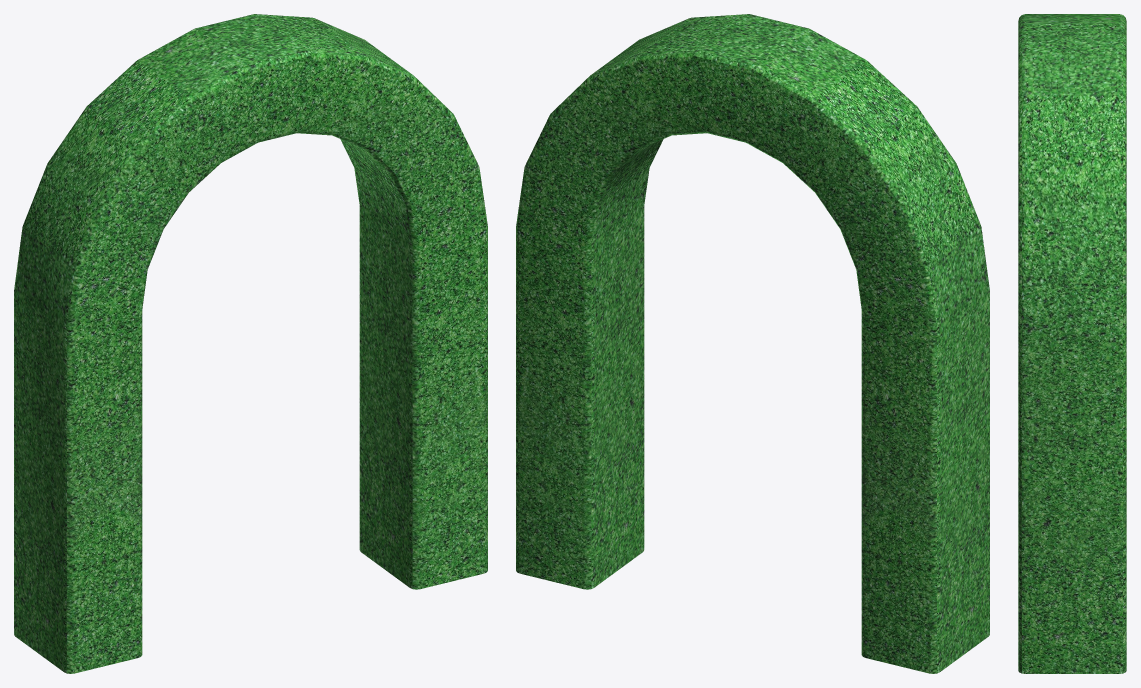
Rendered from door.fbx.
3 views of the same model, side by side, from view 1: azimuth 30°, elevation 25°; view 2: azimuth 150°, elevation 25°; view 3: azimuth 270°, elevation 25° (orthographic). The views are drawn at different scales.
Parts seen in each view (by area): view 1: Torus.001; view 2: Torus.001; view 3: Torus.001.
Part boxes in pixels (x1,y1,x2,y2): Torus.001: (14,14,487,673); Torus.001: (516,14,989,673); Torus.001: (1018,14,1126,673).
Size of the model in its own units: 225 by 286 by 52.33.
1 material, 1 textured.
